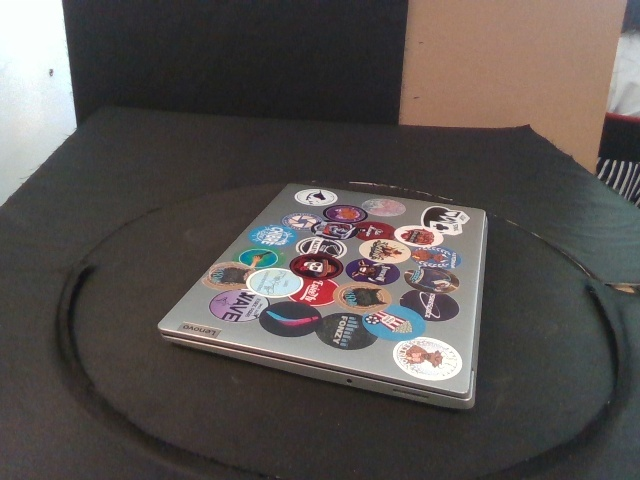laptop: (157, 182, 490, 412)
